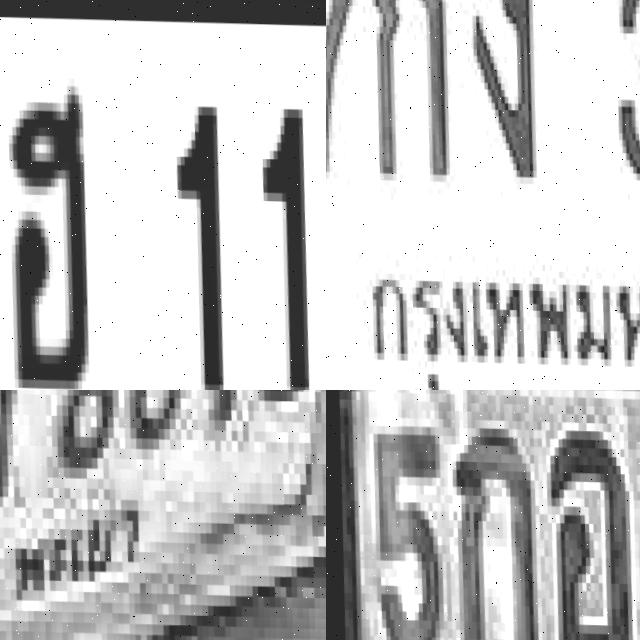license-plate: (0, 0, 326, 390), (326, 0, 640, 390), (0, 390, 326, 640), (327, 390, 640, 640)
